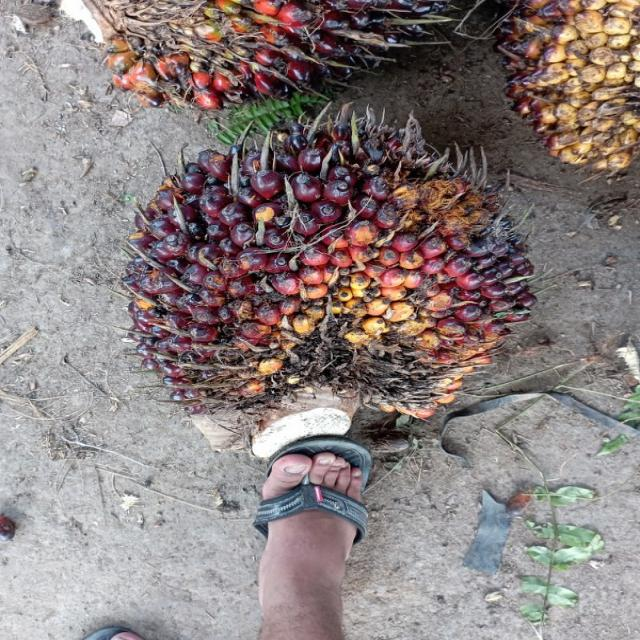fraksi 1: (122, 114, 542, 422)
